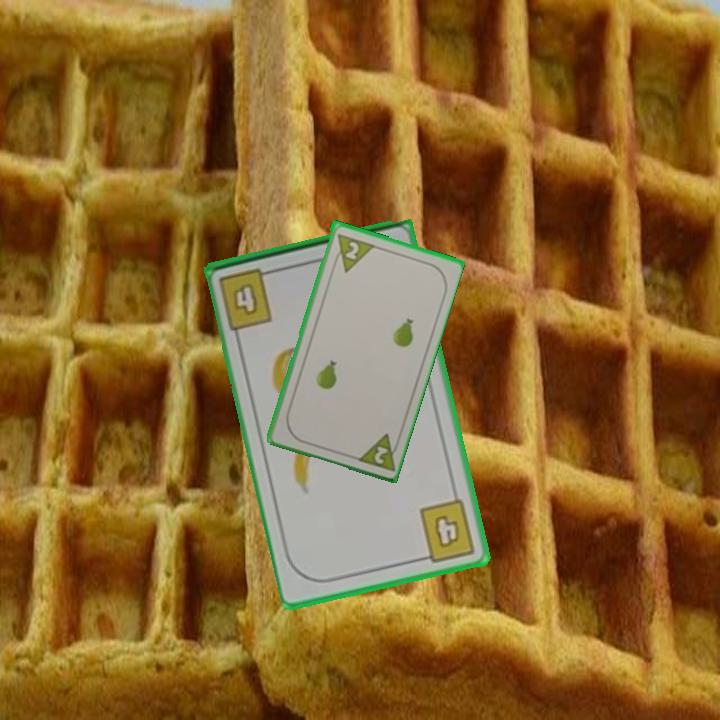2p: (352, 429, 403, 474), (328, 230, 375, 275)
4b: (215, 264, 280, 333), (415, 496, 479, 565)
